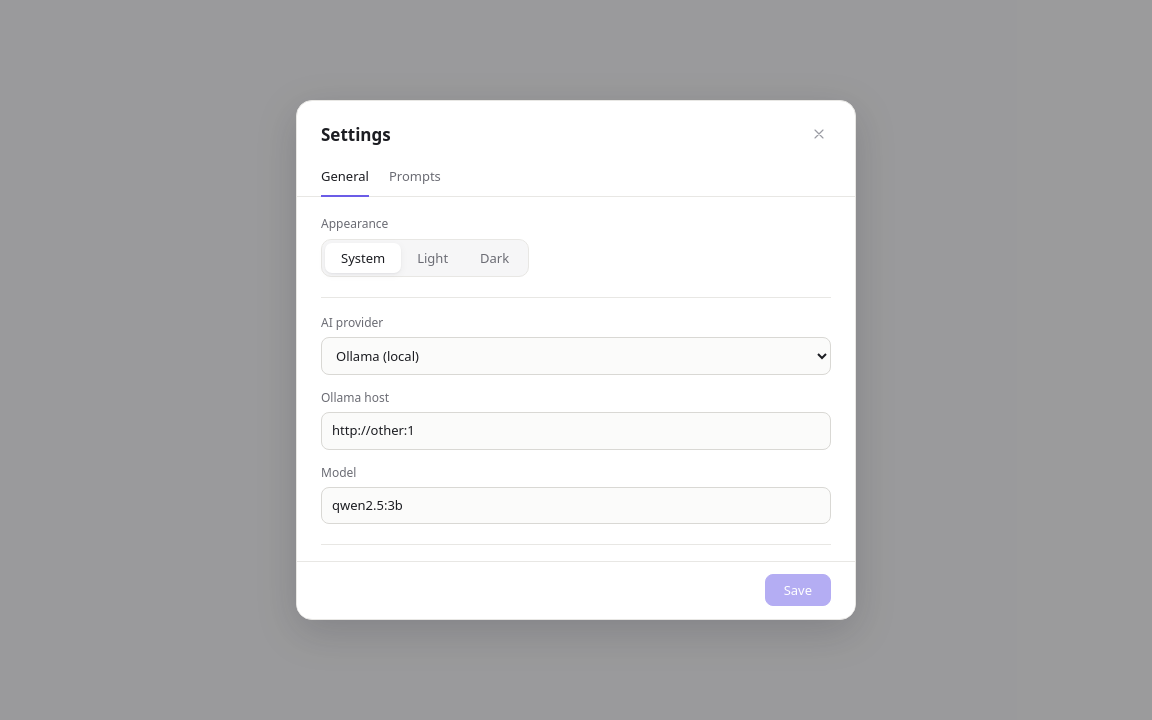
Test: SettingsDialog › loads stored overrides
The width and height of the screenshot is (1152, 720).
Check: the field showing "http://other:1" is shown, box [321,412,831,450]
Click the tab "Prompts".
click(415, 178)  # box [389,159,441,197]
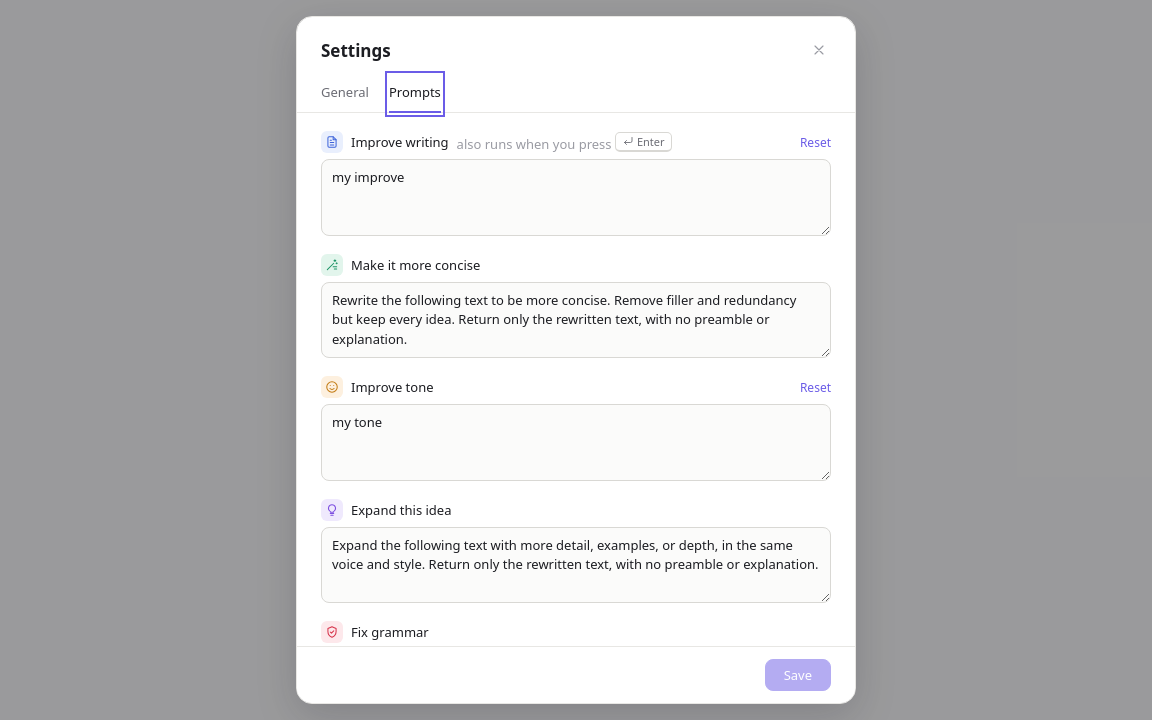
Check: the text box labelled "Improve writing" holds "my improve", box [321,159,831,236]
Check: the text box labelled "Improve tone" holds "my tone", box [321,404,831,480]
Check: the number of buttons "Reset" is 2, box [800,134,831,150]; [800,378,831,396]
